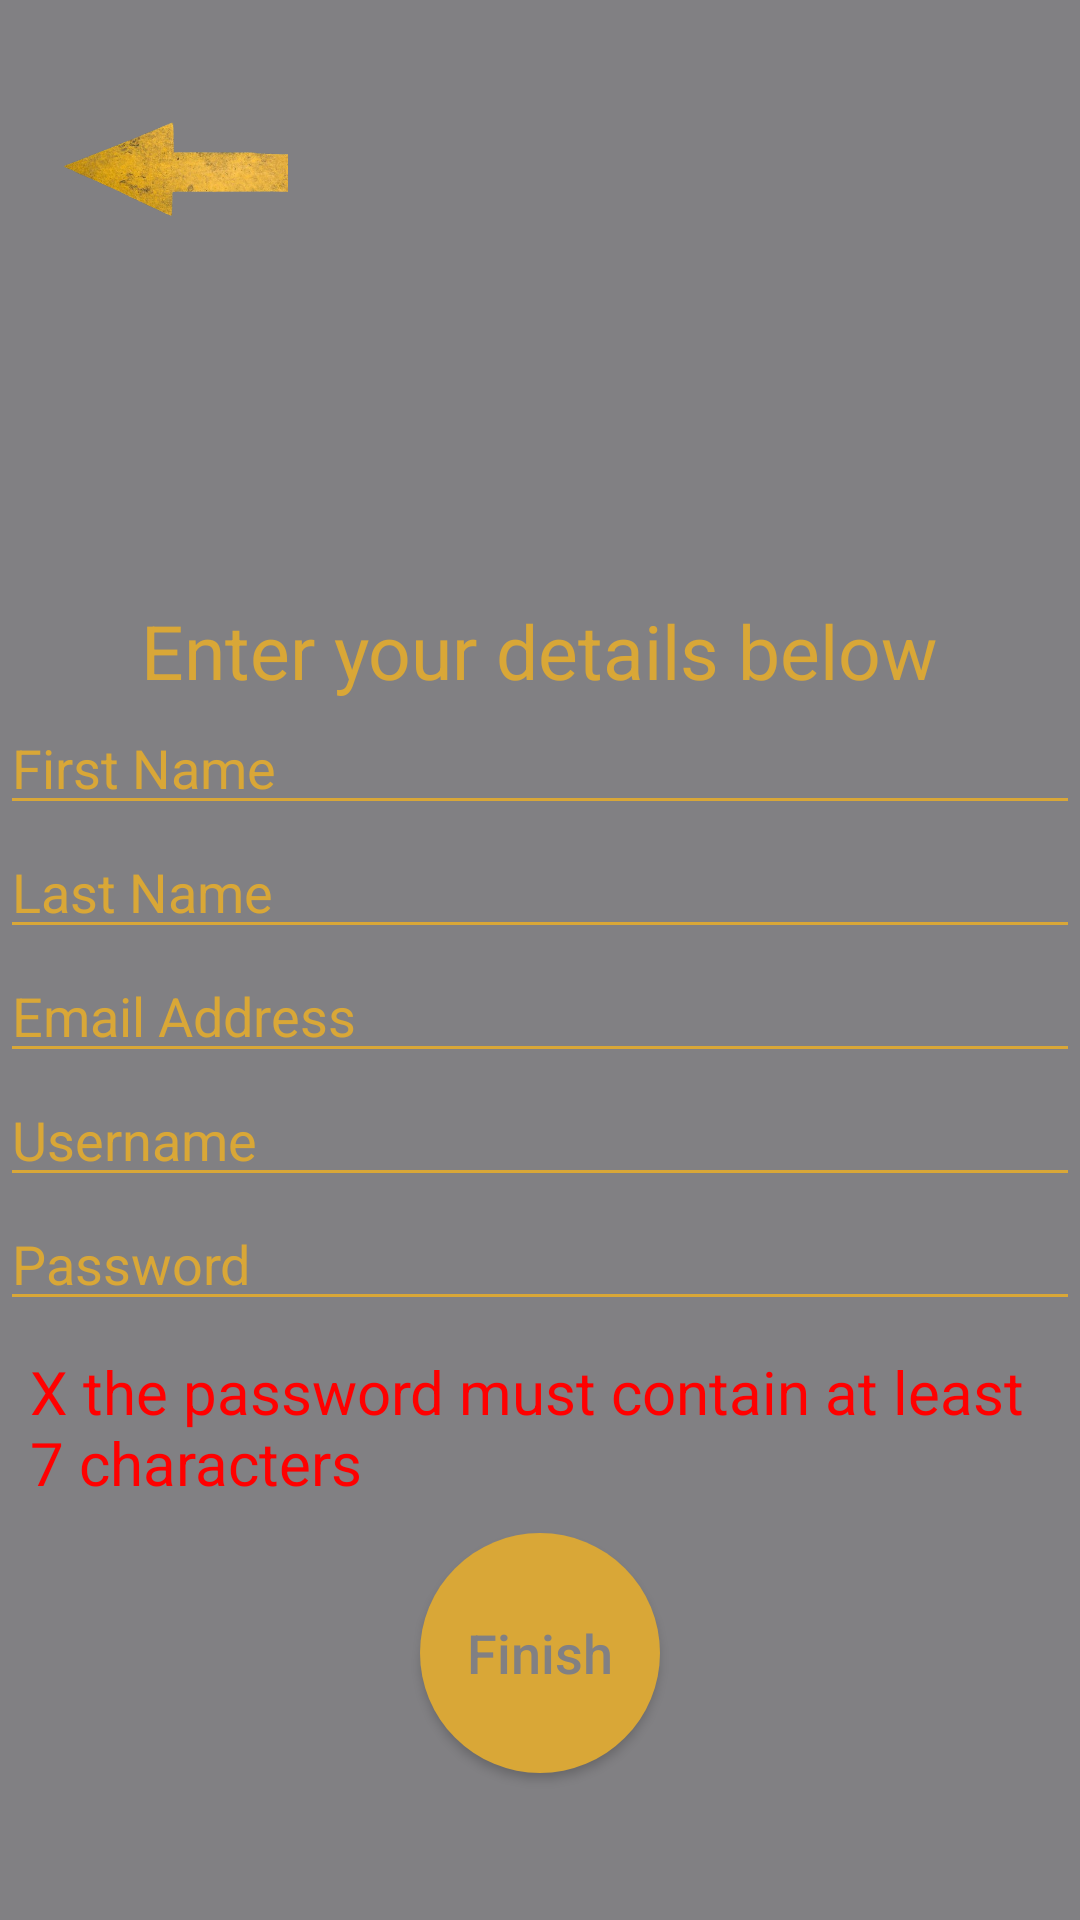

Icon bounding boxes for this 1080 x 1920 phone screenshot, format (x1, y1, x2, y2):
back: (64, 123, 288, 216)
